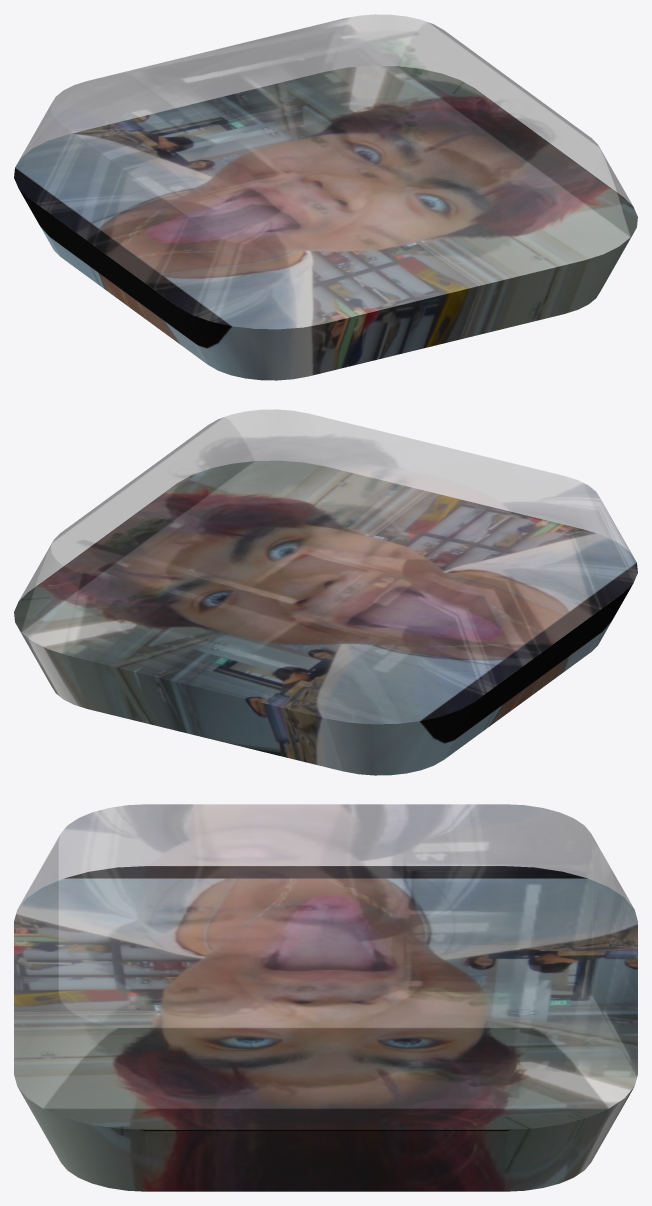
The model's file is ryenboxanimationmovingbiggersurprise.glb.
3 renders of one model, top to bottom at view 1: azimuth 30°, elevation 25°; view 2: azimuth 150°, elevation 25°; view 3: azimuth 270°, elevation 25°, orthographic. The views are drawn at different scales.
Visible parts, largest first — view 1: Rectangle0001, Rectangle1001; view 2: Rectangle0001, Rectangle1001; view 3: Rectangle0001, Rectangle1001.
Part boxes in pixels (x1=…): Rectangle0001: x1=14, y1=65, x2=637, y2=380; Rectangle1001: x1=14, y1=14, x2=637, y2=328; Rectangle0001: x1=14, y1=460, x2=637, y2=775; Rectangle1001: x1=14, y1=409, x2=637, y2=723; Rectangle0001: x1=14, y1=866, x2=637, y2=1191; Rectangle1001: x1=14, y1=804, x2=637, y2=1129.
Size of the model in its own units: 0.07 by 0.02 by 0.07.
Materials: 2 (2 with a texture image).
